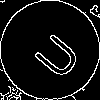U: (25, 25, 84, 83)
